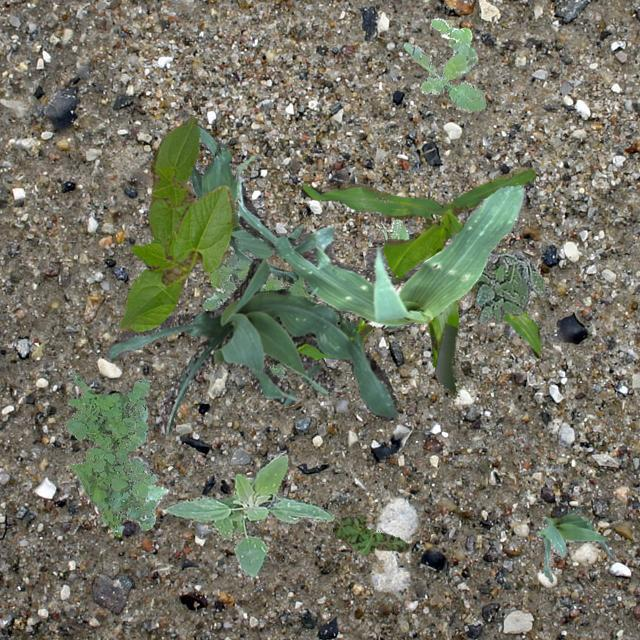crop: (296, 165, 540, 394), (105, 257, 396, 433), (234, 155, 524, 327), (190, 124, 304, 282), (118, 184, 234, 330), (148, 113, 198, 254), (534, 504, 614, 582), (144, 482, 168, 504)
weed: (164, 452, 333, 576), (202, 250, 338, 378), (65, 370, 156, 536), (402, 17, 484, 112), (474, 250, 546, 324), (332, 514, 408, 552), (374, 218, 410, 242)
